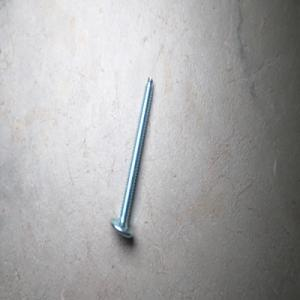Bolt: (109, 76, 154, 239)
